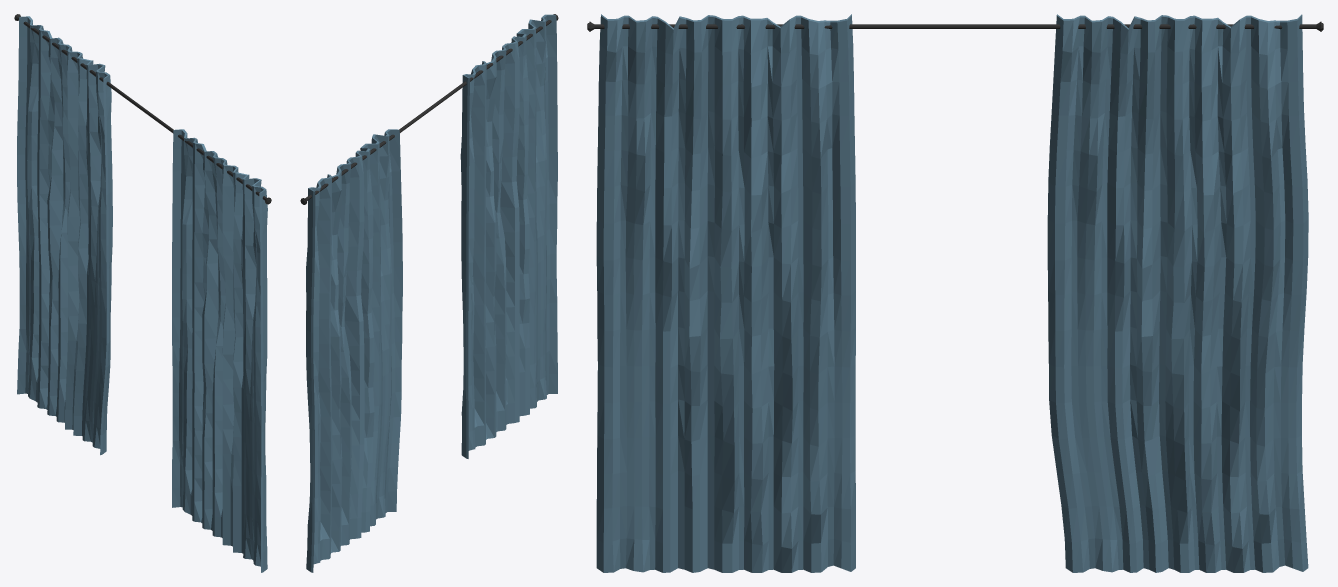
Rendered from curtains.gltf.
The picture shows the model from 3 angles, left to right: view 1: azimuth 30°, elevation 25°; view 2: azimuth 150°, elevation 25°; view 3: azimuth 270°, elevation 25°; orthographic projection. The views are drawn at different scales.
Parts seen in each view (by area): view 1: node-0; view 2: node-0; view 3: node-0.
Part boxes in pixels (x1,y1,x2,y2): node-0: (14,14,271,572); node-0: (300,14,558,572); node-0: (587,14,1323,572).
Bounding box in the file's own units: 0.4746 × 7.65 × 9.2.
